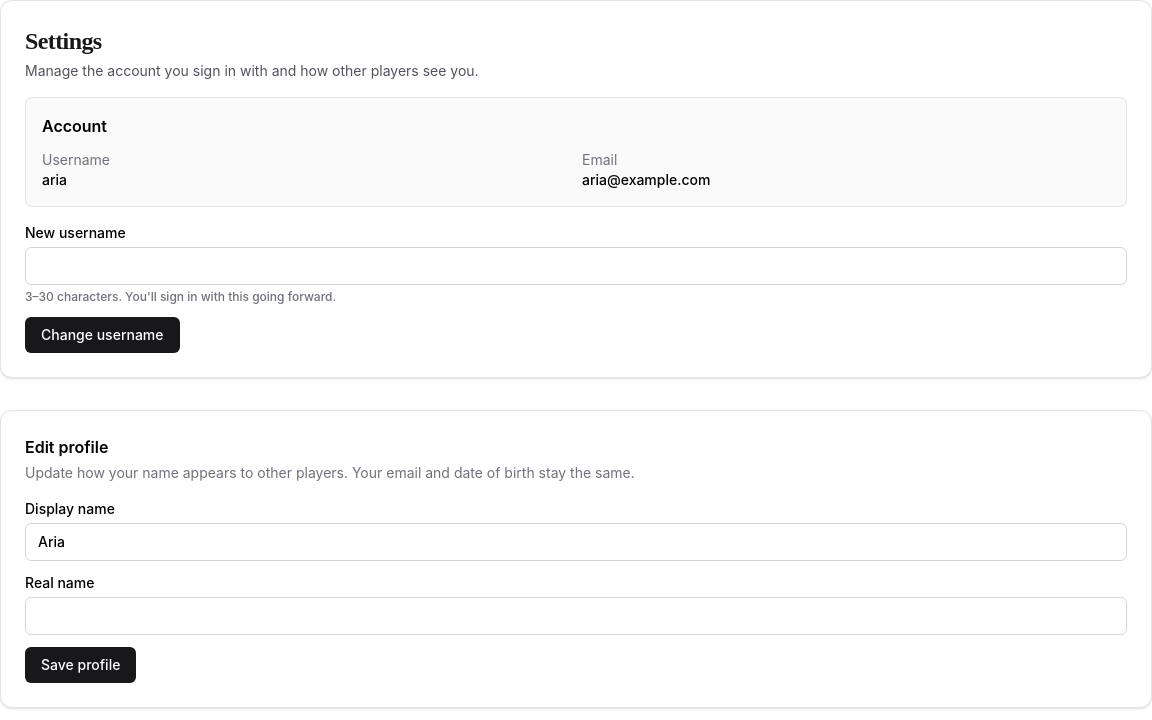
Test: SettingsPage › rejects an invalid username locally
Type "x" into the field labelled "New username" at (576, 266), box [25,247,1127,285]
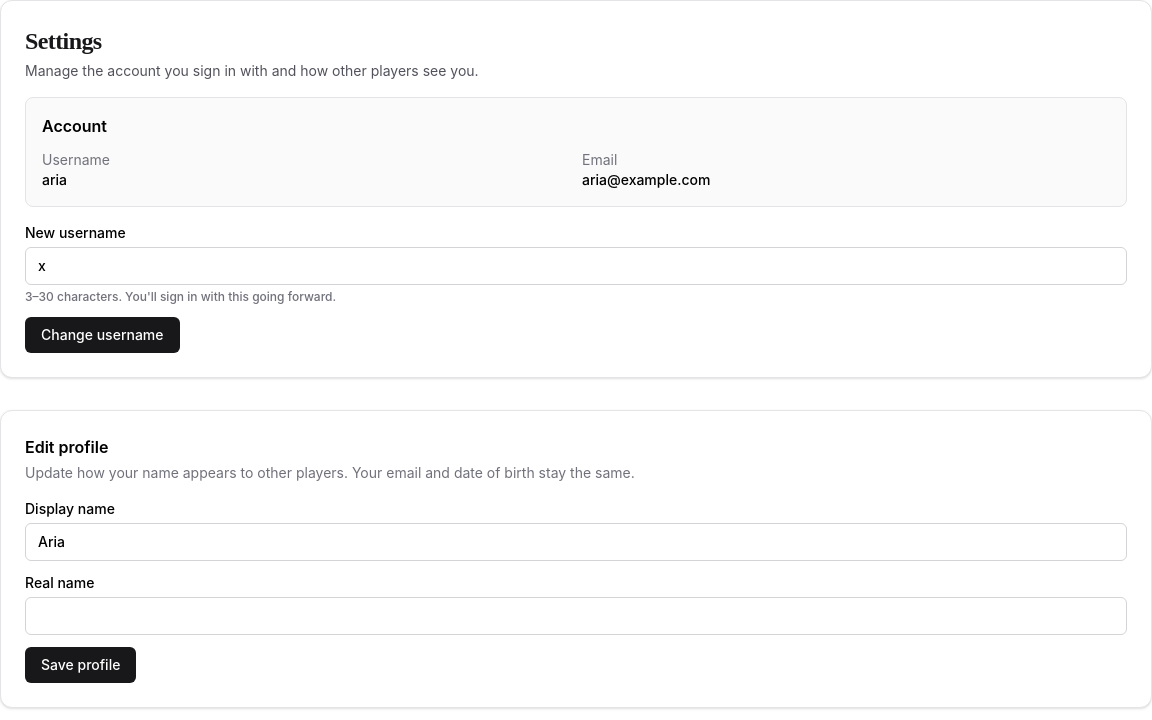
Click the button "Change username" at (102, 335), box [25,317,180,353]
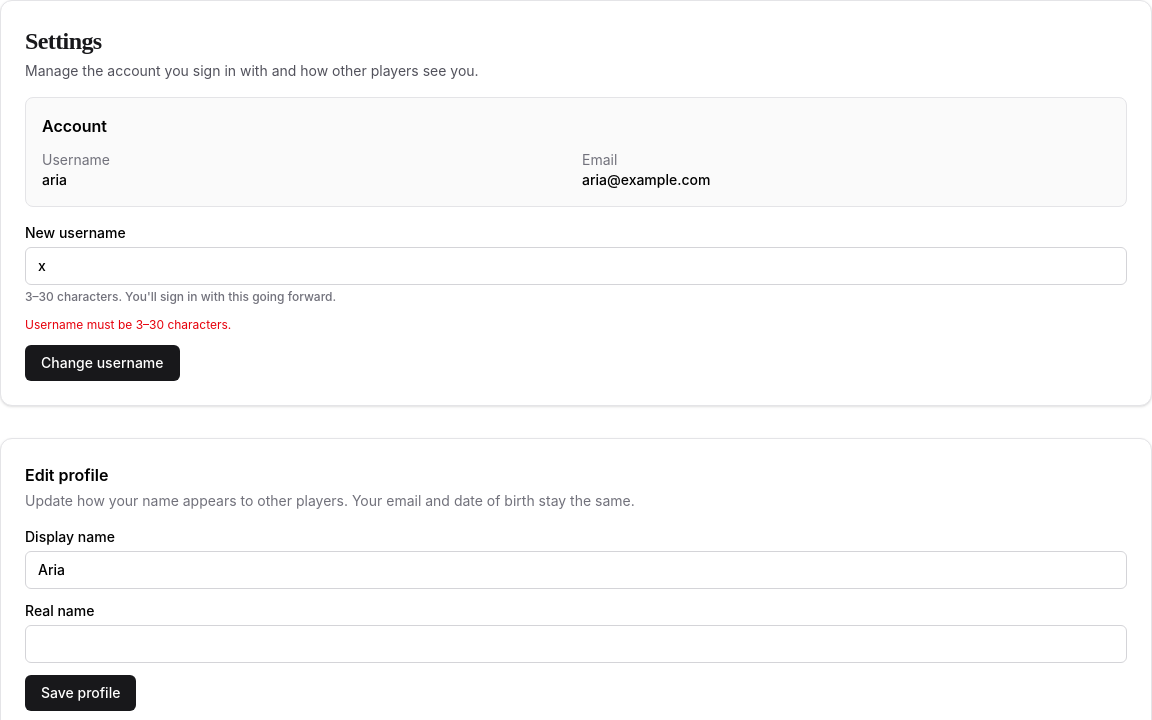
Result: the text "Username must be 3–30 characters." is shown at [25,317,231,332]
